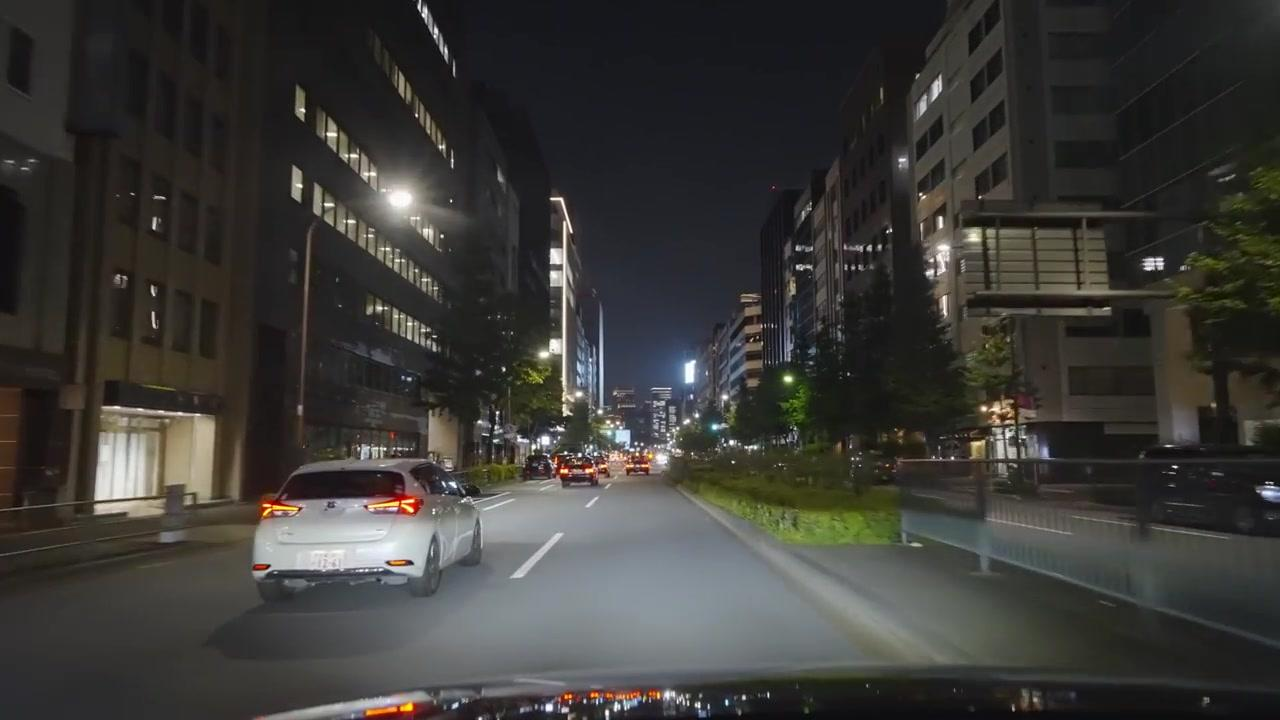car: (251, 458, 484, 601), (1136, 442, 1279, 537), (558, 455, 601, 487), (523, 454, 554, 480), (586, 454, 611, 479), (628, 452, 653, 474)
